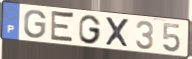3: (135, 20, 155, 51)
5: (162, 22, 182, 53)
E: (49, 9, 76, 45)
G: (23, 9, 48, 40), (78, 14, 102, 45)
X: (104, 16, 130, 49)
